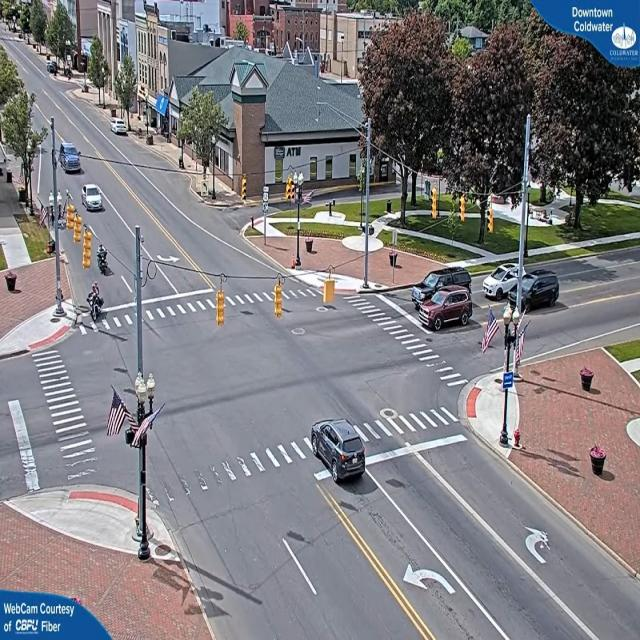car: (310, 419, 368, 487), (413, 287, 473, 330), (530, 268, 561, 311), (485, 264, 519, 300), (59, 145, 82, 175), (82, 185, 105, 212), (111, 119, 129, 136)
motorbike: (86, 284, 104, 326), (97, 241, 110, 280)
